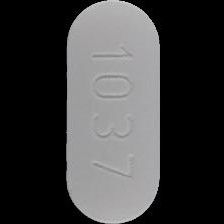21695-089: (0, 0, 224, 224)
